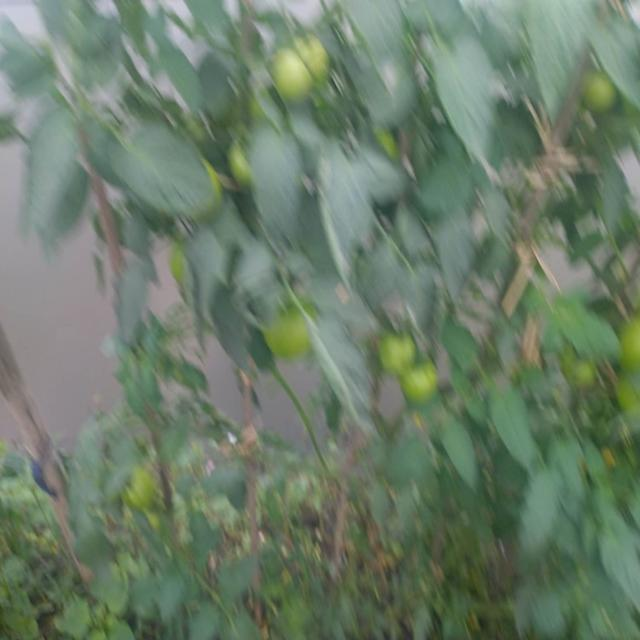tomato: (254, 316, 315, 356), (375, 333, 423, 372), (276, 51, 313, 94), (125, 468, 159, 511), (405, 366, 438, 406), (301, 30, 326, 76), (586, 76, 617, 113), (226, 137, 249, 181), (572, 357, 600, 390), (619, 316, 640, 358), (167, 242, 185, 281)
